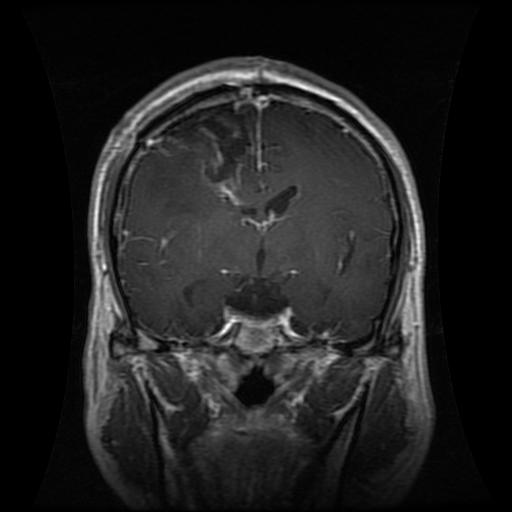Gliomia_tumour: (158, 103, 256, 200)
